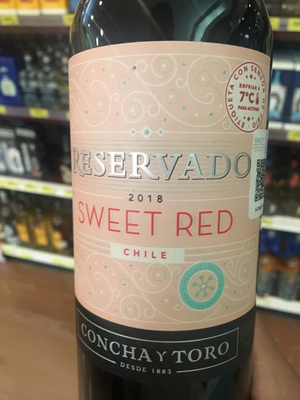reservado sweet red: (65, 10, 278, 399)
